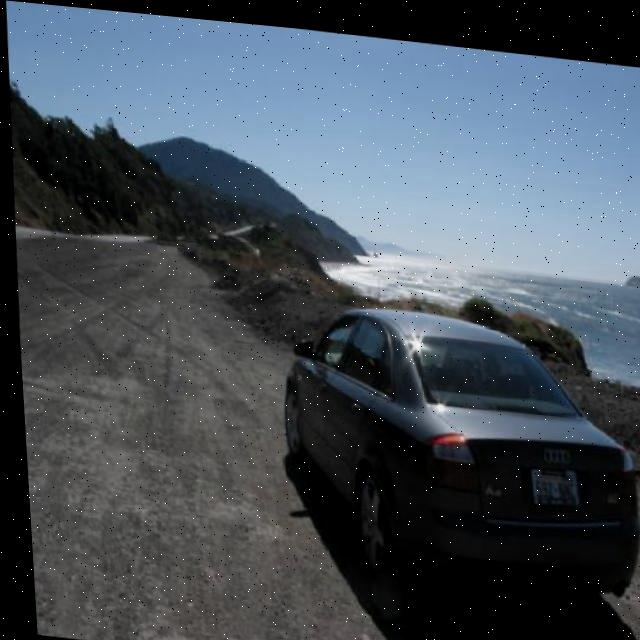license_plate: (525, 455, 574, 498)
